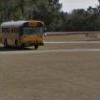Bus: (1, 17, 47, 50)
